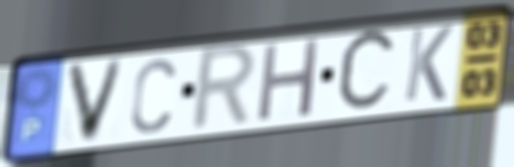C: (333, 23, 400, 119), (127, 55, 178, 137)
H: (253, 34, 324, 126)
K: (400, 23, 456, 105)
R: (186, 40, 260, 136)
V: (63, 55, 129, 147)
